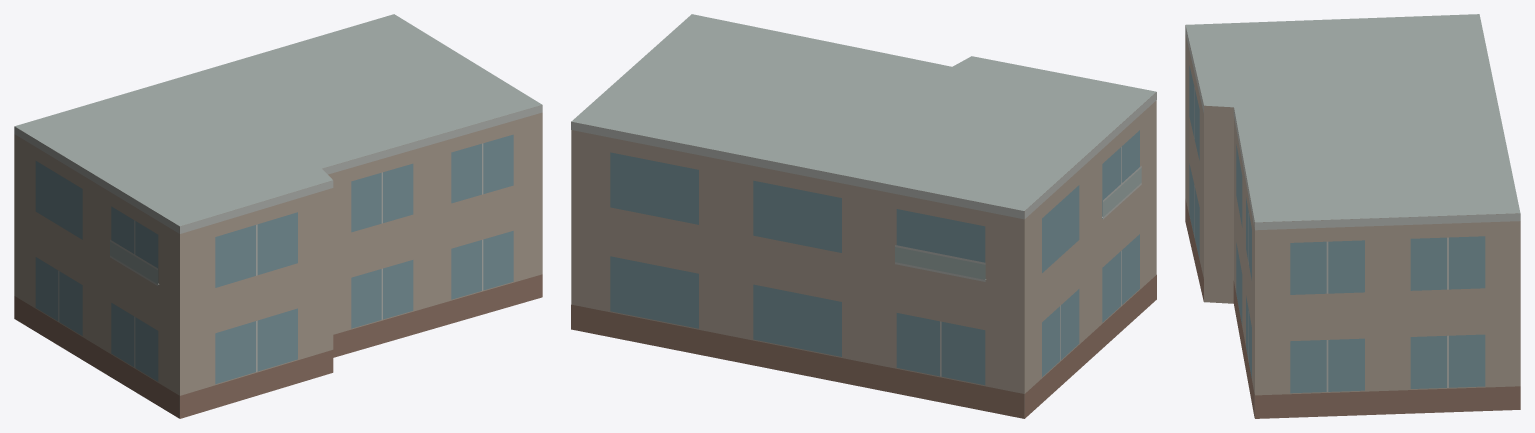
File: survey-upis-32941079.glb
The picture shows the model from 3 angles, left to right: view 1: azimuth 30°, elevation 25°; view 2: azimuth 150°, elevation 25°; view 3: azimuth 270°, elevation 25°; orthographic projection. The views are drawn at different scales.
Visible parts, largest first — view 1: survey-upis-32941079.tmp; view 2: survey-upis-32941079.tmp; view 3: survey-upis-32941079.tmp.
Boxes of the visible parts, left/top/right/bottom form: survey-upis-32941079.tmp: left=14, top=14, right=542, bottom=418; survey-upis-32941079.tmp: left=571, top=14, right=1156, bottom=418; survey-upis-32941079.tmp: left=1185, top=14, right=1520, bottom=418.
Bounding box in the file's own units: 13.88 × 6.1 × 9.44.
